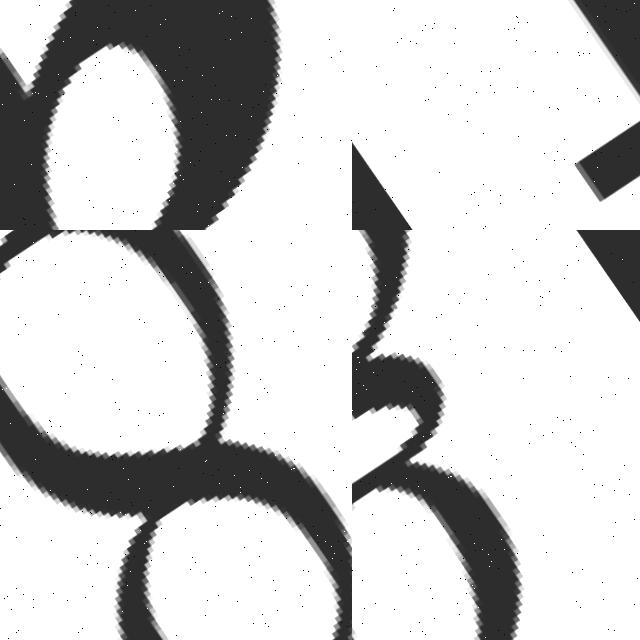8: (0, 230, 352, 640)
A: (0, 0, 352, 230)
F: (352, 0, 640, 230)
G: (352, 230, 640, 640)
